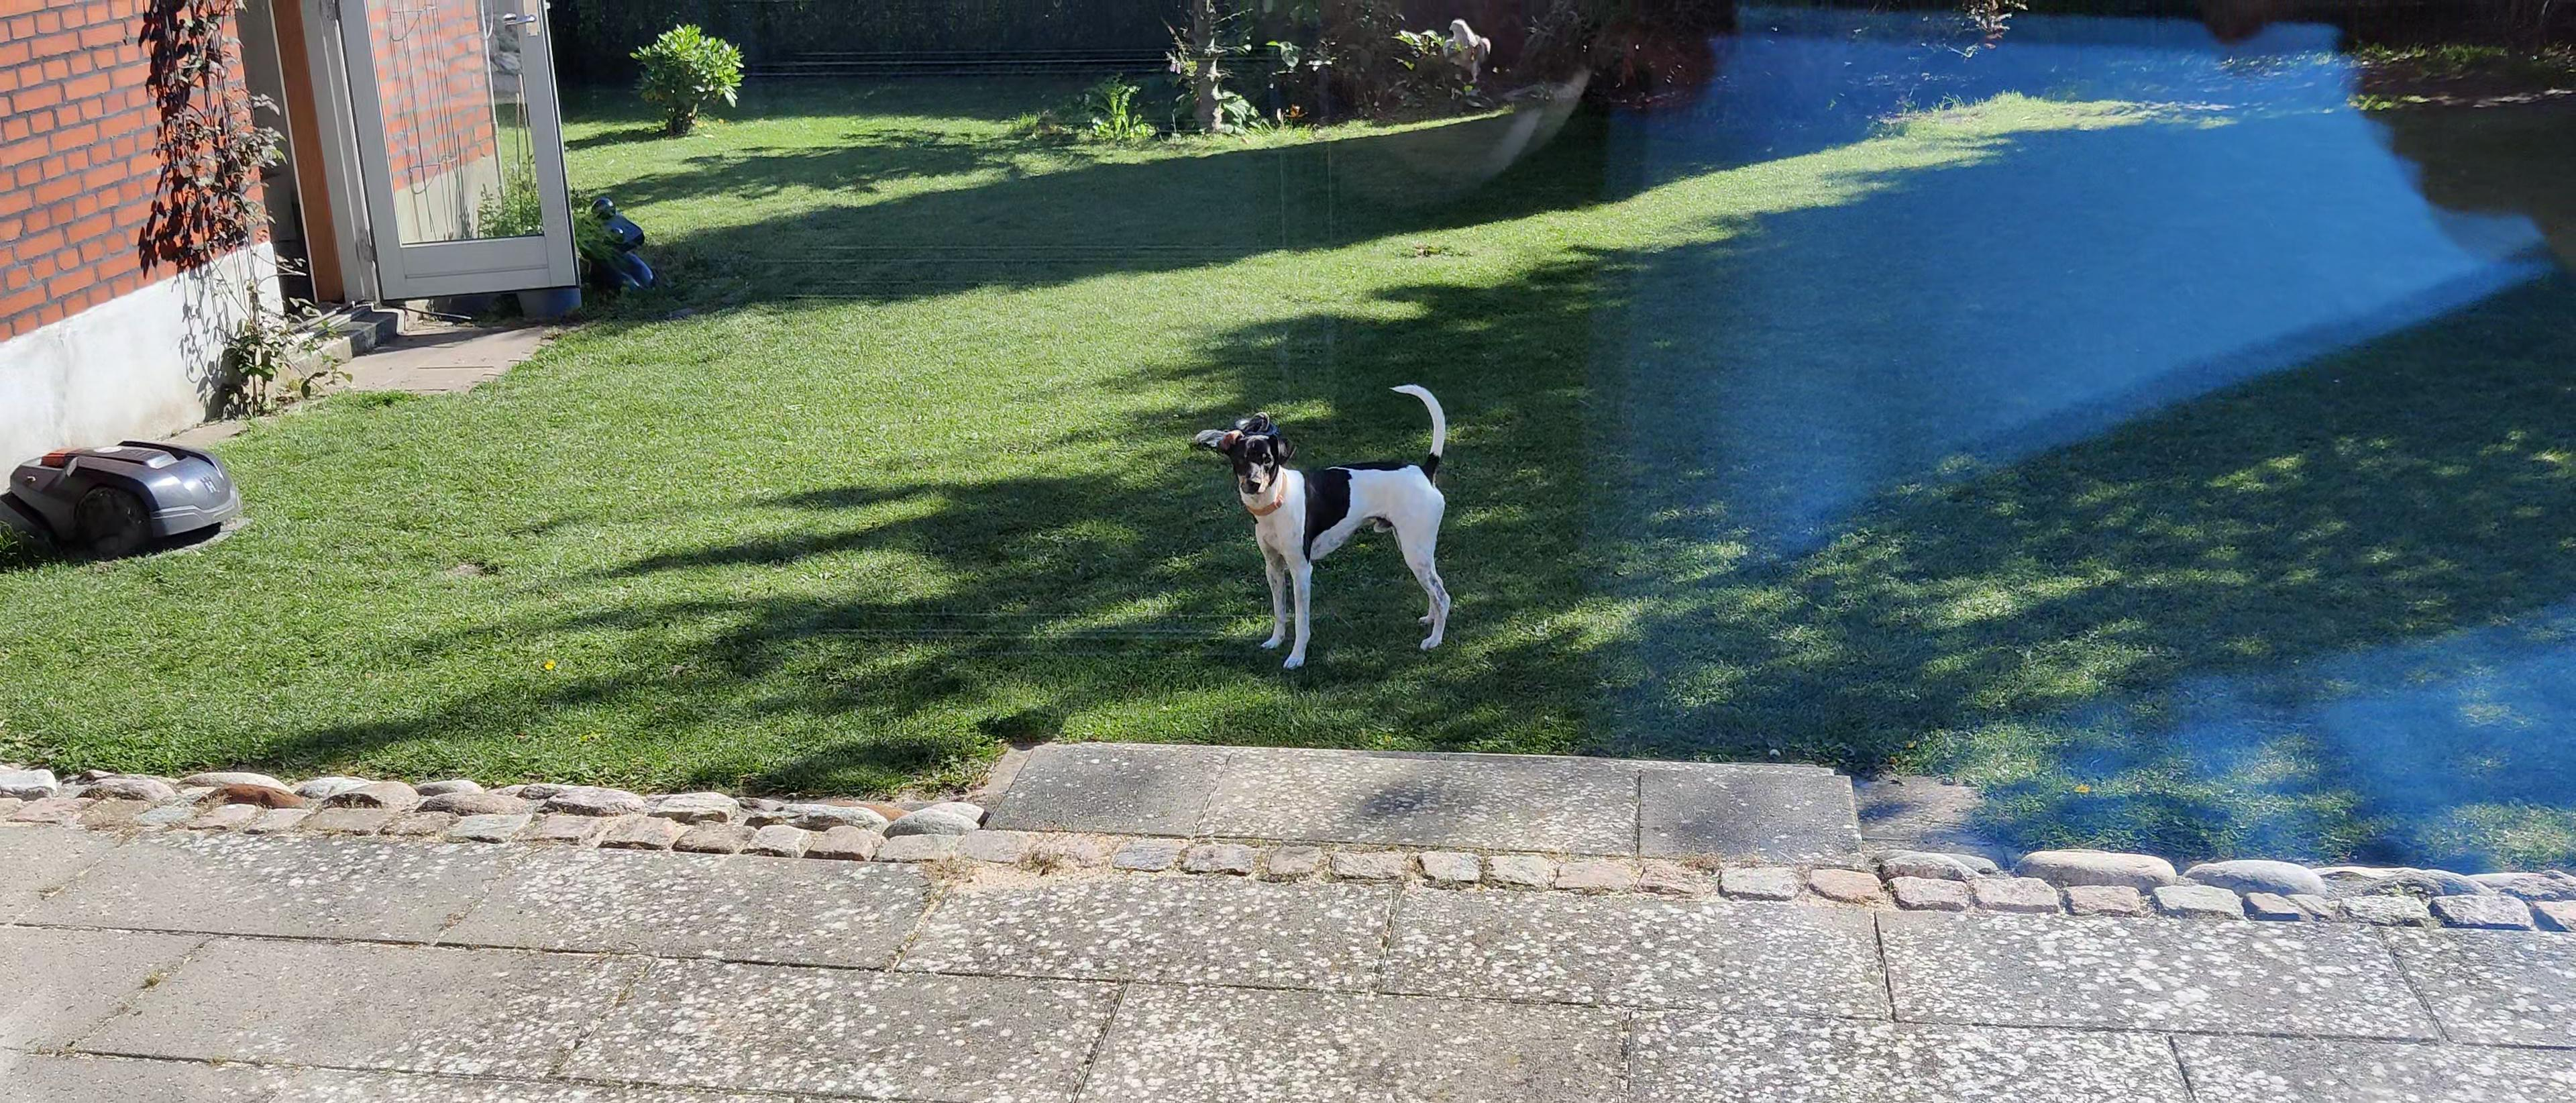Dog: (1214, 381, 1454, 669)
